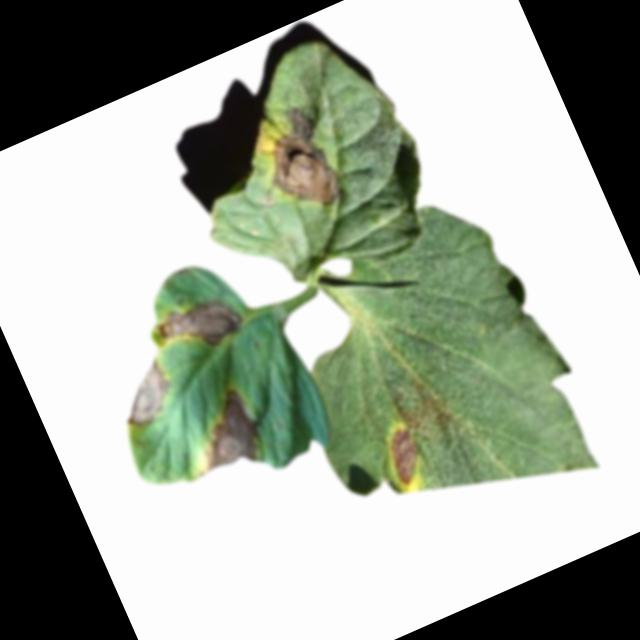Early_blight: (247, 100, 354, 225), (149, 285, 248, 368), (183, 387, 270, 481), (106, 357, 181, 432), (377, 423, 430, 488)
